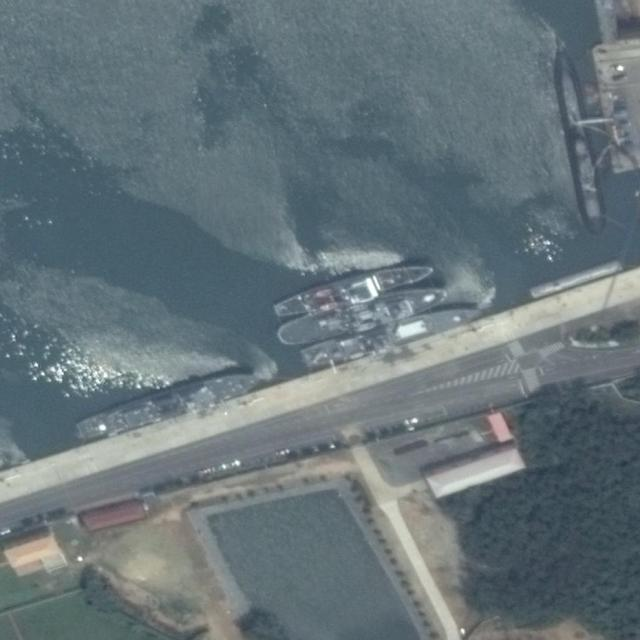Other Warship: (73, 361, 263, 448), (295, 297, 481, 374), (276, 281, 449, 348), (272, 256, 437, 321)
Submarine: (546, 45, 610, 234)
